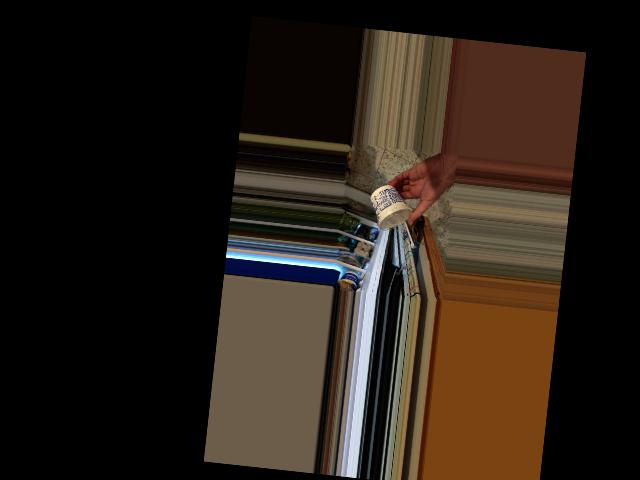cotage: (368, 190, 413, 234)
